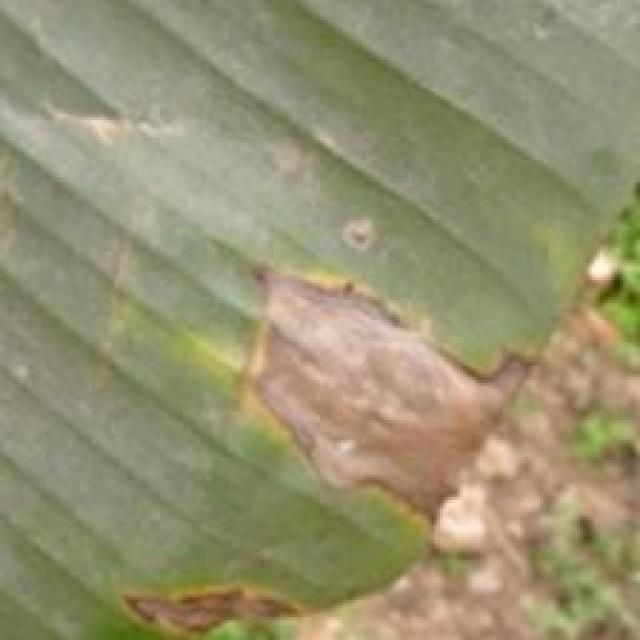Bacterial_spot: (228, 250, 552, 542), (95, 565, 311, 640), (76, 208, 143, 406), (333, 212, 392, 255)
